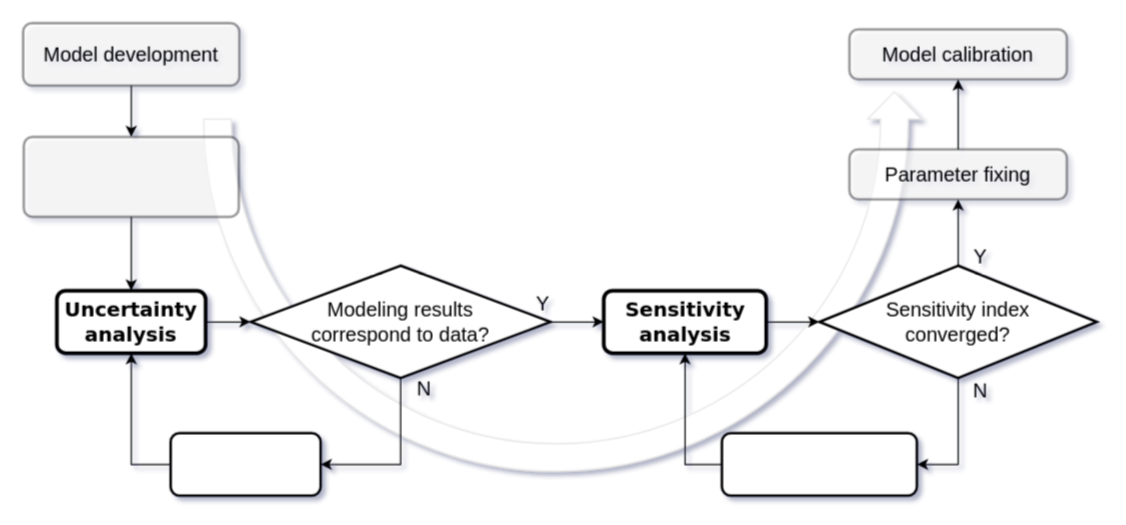
This 1126x525 diagram has some shape labels left out. Here are the shapes that lost their labels. From the top down, the centre of each, then its label:
the point at 130,176: Setting input conditions & output variables
the point at 245,463: Parameter adjustment
the point at 819,463: Sample size increment
